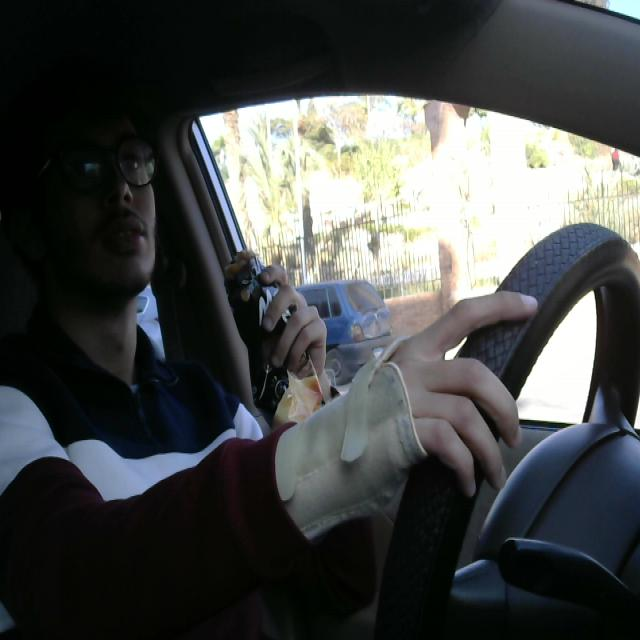eating: (209, 242, 339, 461)
